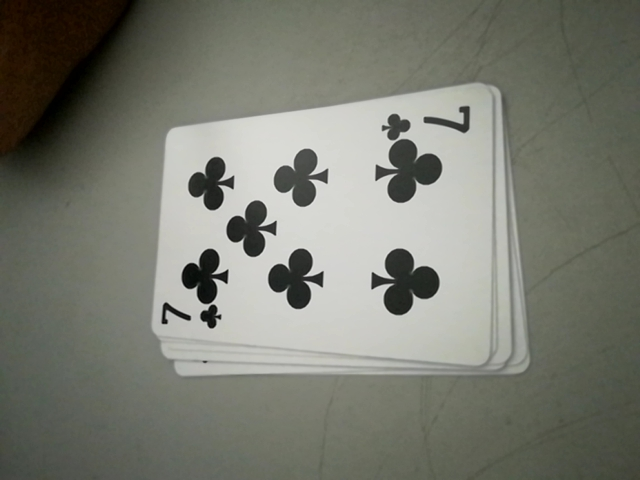mh 7: (378, 99, 480, 141), (156, 300, 221, 336)
